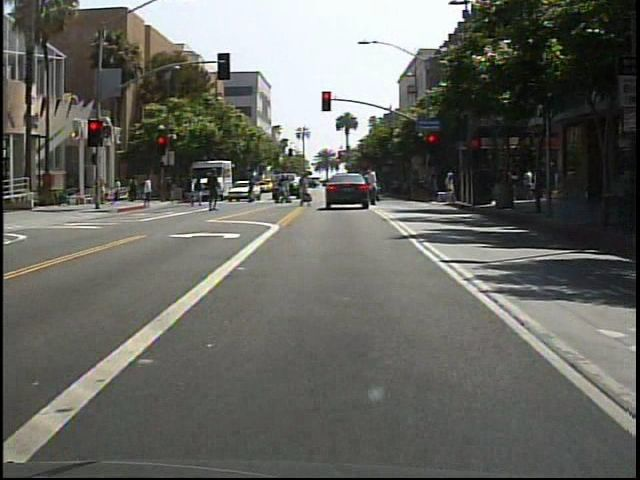person: (360, 163, 387, 210), (208, 169, 228, 216), (298, 173, 317, 212), (141, 175, 158, 211), (193, 175, 208, 211)
